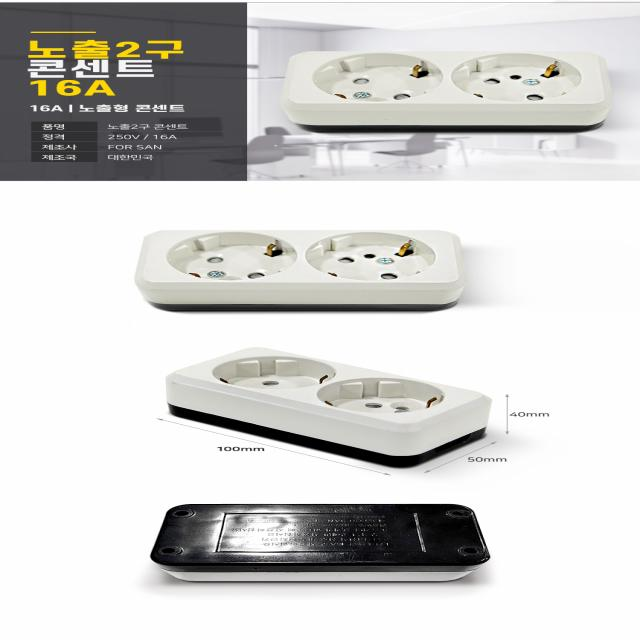typeb: (103, 339, 557, 466), (272, 44, 624, 138), (118, 227, 495, 314)
